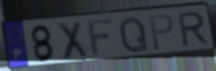8: (29, 24, 56, 64)
F: (86, 16, 116, 60)
P: (148, 13, 175, 53)
Q: (118, 15, 150, 55)
R: (177, 9, 211, 49)
X: (56, 19, 90, 62)
